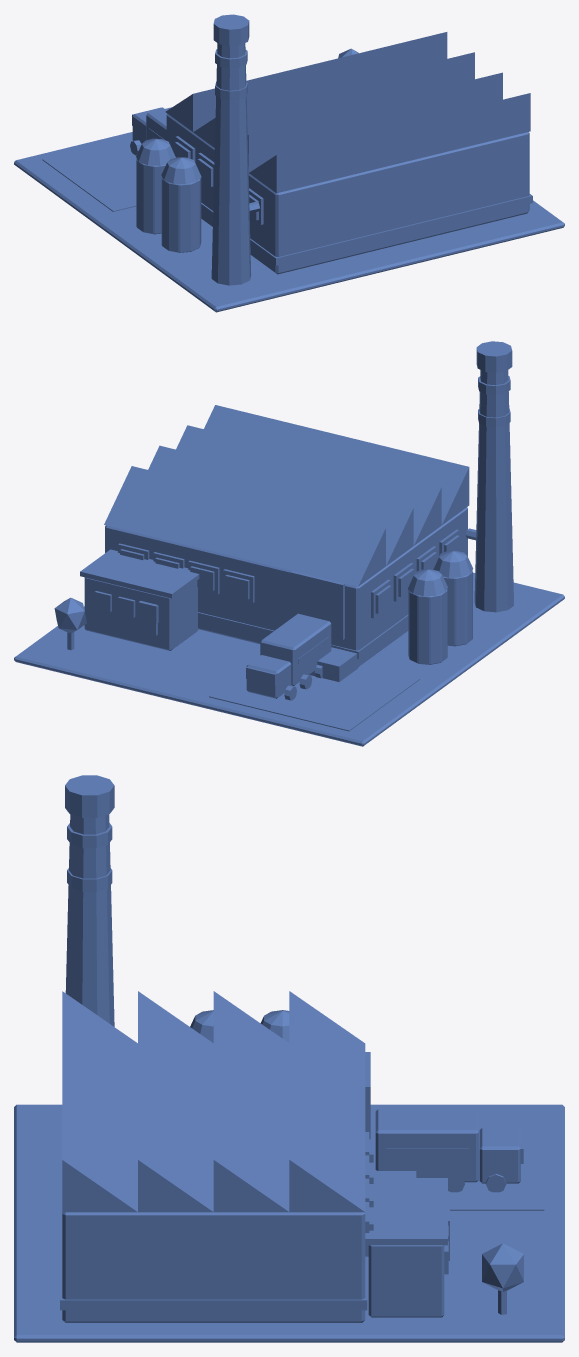
The picture shows the model from 3 angles, top to bottom: view 1: azimuth 30°, elevation 25°; view 2: azimuth 150°, elevation 25°; view 3: azimuth 270°, elevation 25°; orthographic projection. The views are drawn at different scales.
Parts seen in each view (by area): view 1: corpo; view 2: corpo; view 3: corpo.
Part boxes in pixels (box(x1,y1,x2,y2)): corpo: box(14, 14, 564, 312); corpo: box(14, 341, 564, 746); corpo: box(14, 775, 564, 1342).
Size of the model in its own units: 4 by 2.84 by 4.
